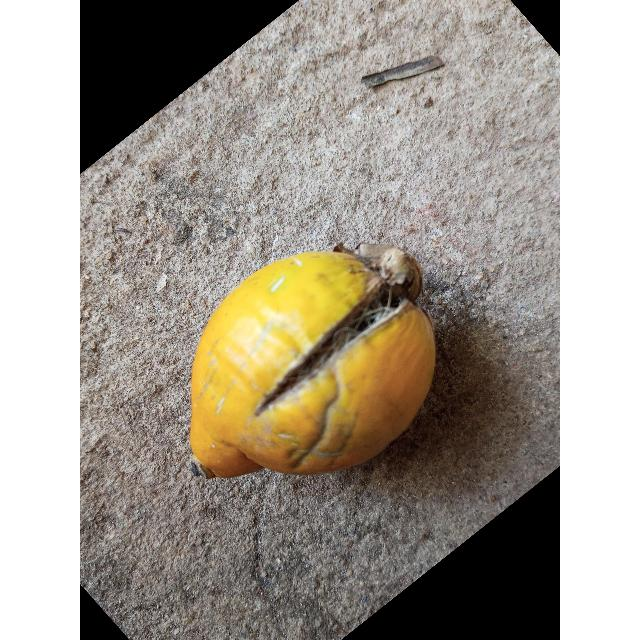damaged: (189, 249, 433, 479)
